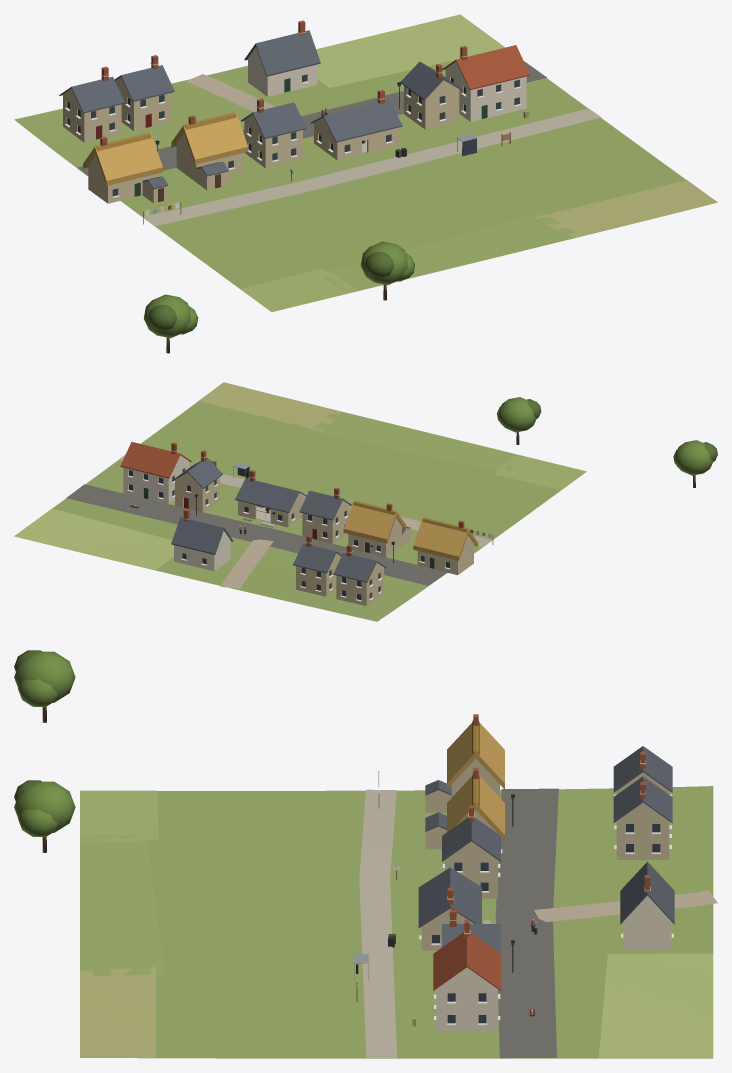
File: service_lane.glb
3 views of the same model, one above another, from view 1: azimuth 30°, elevation 25°; view 2: azimuth 150°, elevation 25°; view 3: azimuth 270°, elevation 25° (orthographic). The views are drawn at different scales.
Visible parts, largest first — view 1: ground, ground_areas, ground_lanes, cut_roof_rose_cottage, cut_roof_well_cottage, tea_room_shell, cut_roof_tea_room, cut_roof_forge, cut_roof_street_10, tree_60, tree_59, street_2_shell (+11 smaller); view 2: ground, ground_areas, ground_lanes, cut_roof_rose_cottage, cut_roof_well_cottage, cut_roof_tea_room, cut_roof_forge, cut_roof_street_10, tea_room_shell, tree_60, tree_59, street_2_shell (+11 smaller); view 3: ground, ground_areas, ground_lanes, tea_room_shell, tree_60, tree_59, cut_roof_tea_room, cut_roof_forge, cut_roof_rose_cottage, street_8_shell, cut_roof_well_cottage, street_10_shell (+8 smaller).
Boxes of the visible parts, box(x1,y1,x2,y2) form: ground: box(14, 60, 717, 311); ground_areas: box(240, 14, 717, 311); ground_lanes: box(77, 61, 601, 226); cut_roof_rose_cottage: box(83, 133, 162, 185); cut_roof_well_cottage: box(171, 112, 248, 164); tea_room_shell: box(445, 61, 526, 121); cut_roof_tea_room: box(442, 45, 529, 90); cut_roof_forge: box(310, 89, 402, 142); cut_roof_street_10: box(244, 20, 320, 76); tree_60: box(360, 241, 415, 300); tree_59: box(143, 294, 198, 353); street_2_shell: box(404, 80, 459, 129); ground: box(14, 401, 585, 621); ground_areas: box(14, 382, 586, 569); ground_lanes: box(66, 454, 491, 588); cut_roof_rose_cottage: box(413, 517, 478, 560); cut_roof_well_cottage: box(343, 501, 406, 543); cut_roof_tea_room: box(120, 442, 191, 478); cut_roof_forge: box(235, 470, 306, 512); cut_roof_street_10: box(171, 509, 233, 554); tea_room_shell: box(123, 455, 188, 503); tree_60: box(497, 397, 541, 444); tree_59: box(673, 440, 717, 487); street_2_shell: box(175, 472, 219, 512); ground: box(80, 786, 713, 1058); ground_areas: box(80, 790, 713, 1058); ground_lanes: box(359, 788, 717, 1058); tea_room_shell: box(436, 967, 497, 1030); tree_60: box(14, 780, 75, 852); tree_59: box(14, 650, 75, 722); cut_roof_tea_room: box(433, 920, 500, 990); cut_roof_forge: box(418, 867, 481, 927); cut_roof_rose_cottage: box(447, 714, 504, 789); street_8_shell: box(616, 803, 669, 859); cut_roof_well_cottage: box(447, 767, 504, 840); street_10_shell: box(623, 896, 671, 950).
Size of the model in its own units: 94.6 by 10.16 by 80.02.
